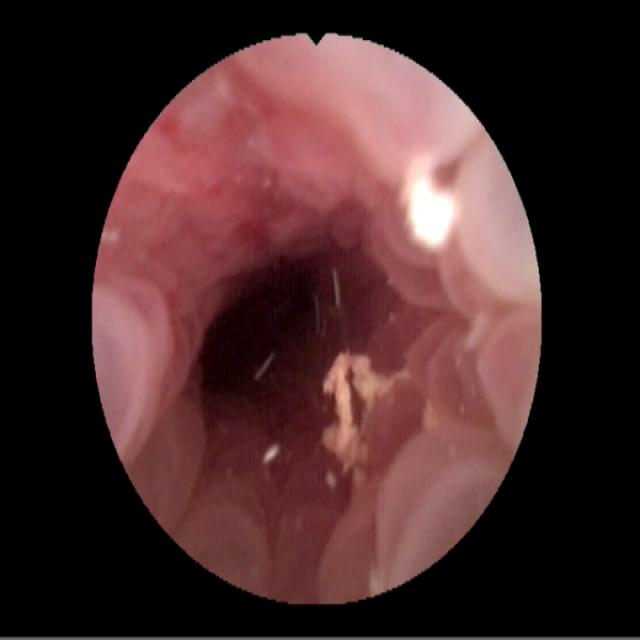stone: (319, 350, 393, 476), (405, 172, 455, 251)
tissue: (105, 41, 532, 591)
